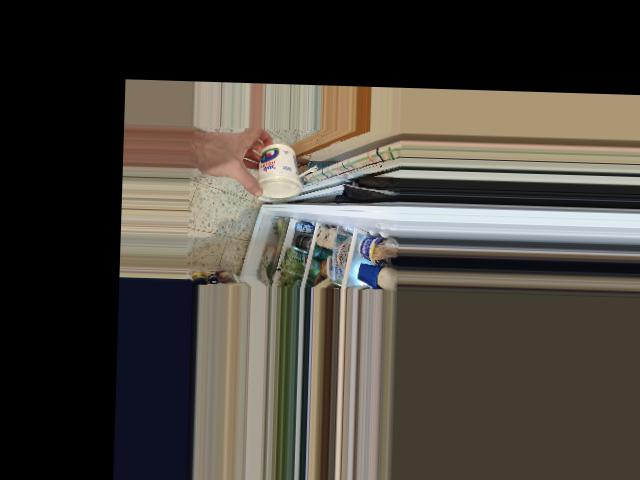cotage: (259, 138, 301, 199)
